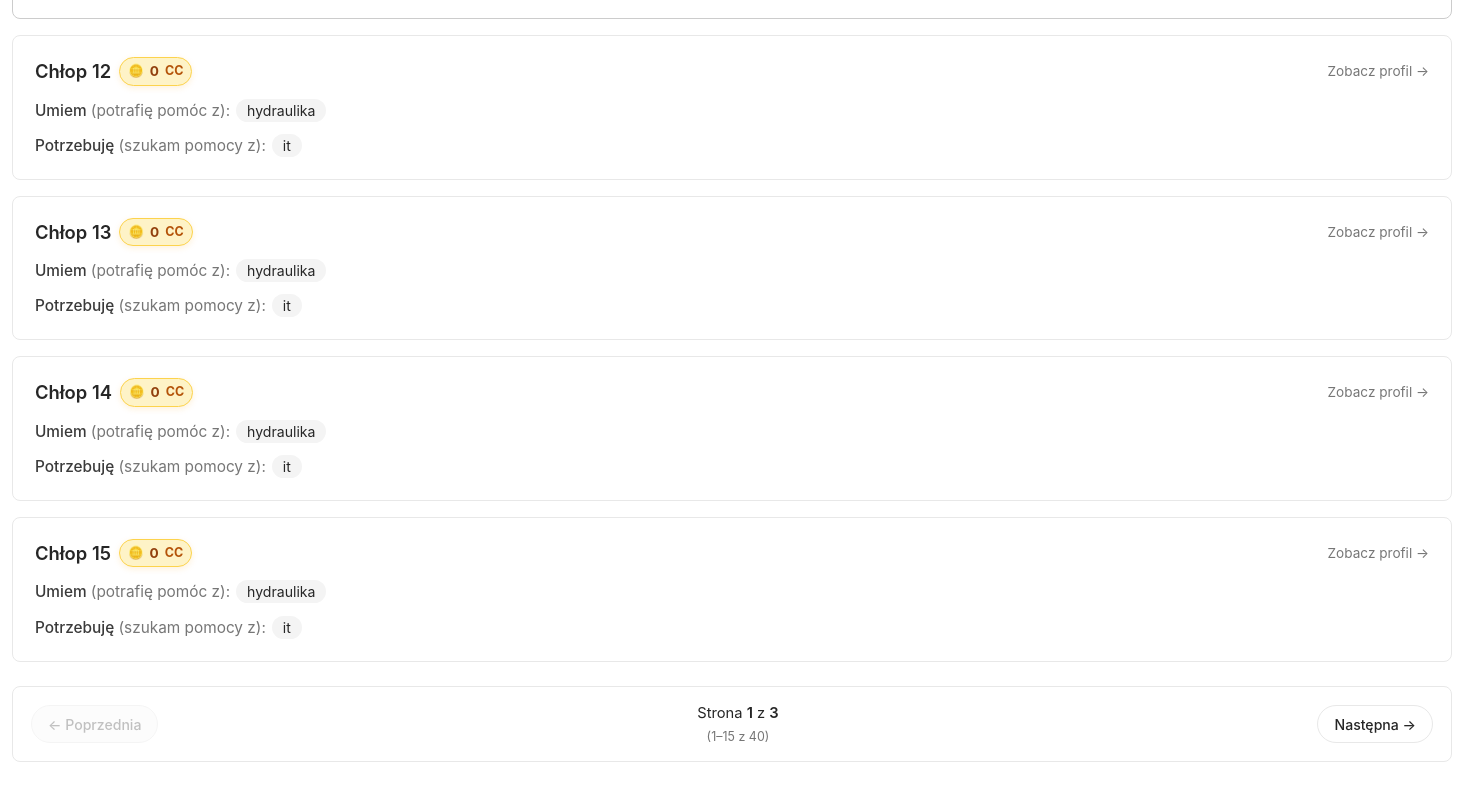
HomeView: stronicowanie › zmiana frazy wraca na pierwszą stronę
(page scrolled)
Click the button "Następna →". click: (1375, 724)
box: [1318,705,1433,743]
(page scrolled)
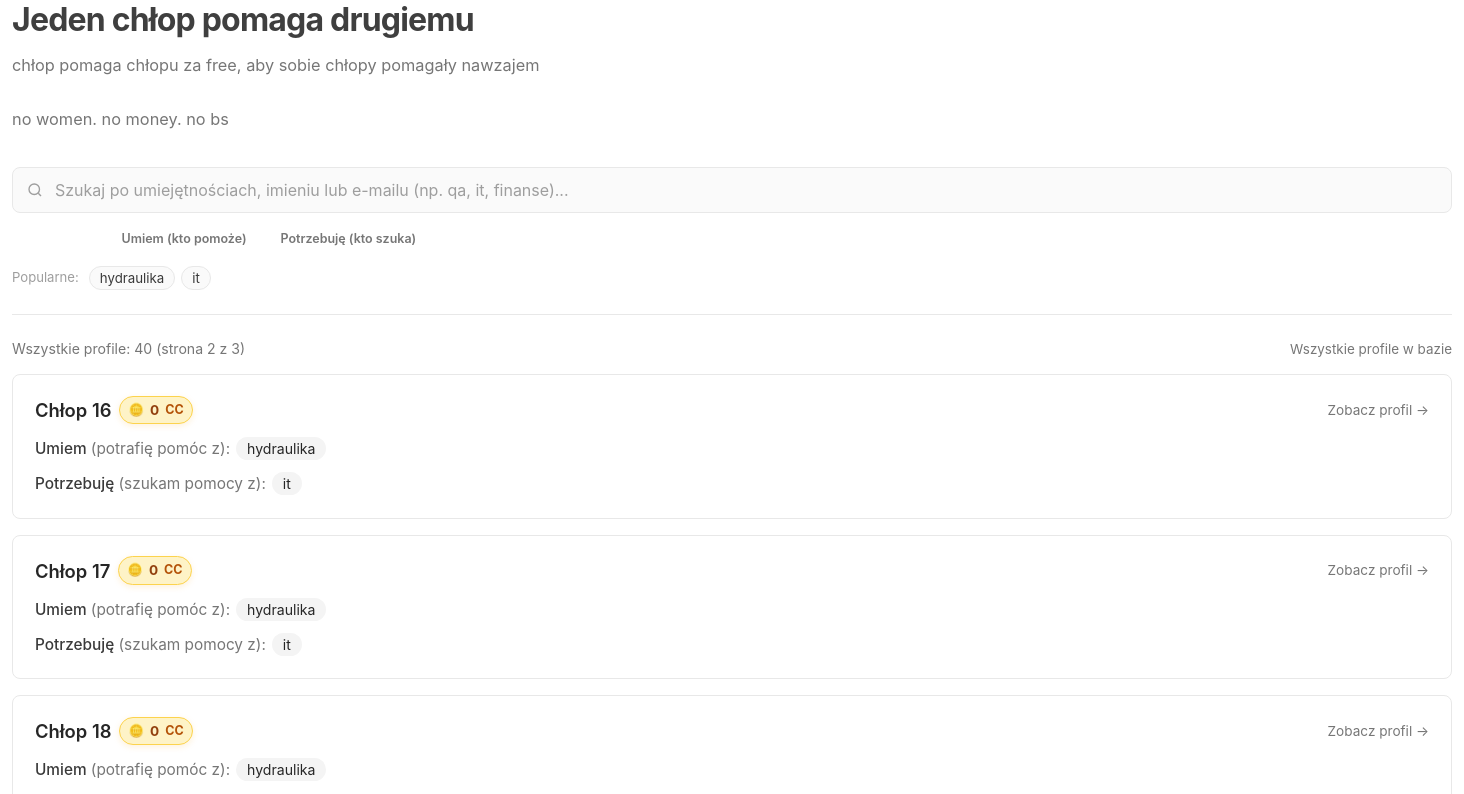
Replace the text in the search field with id "search-input" with "hydraulika". click: (732, 190)
box: [12,167,1452,213]
(page scrolled)
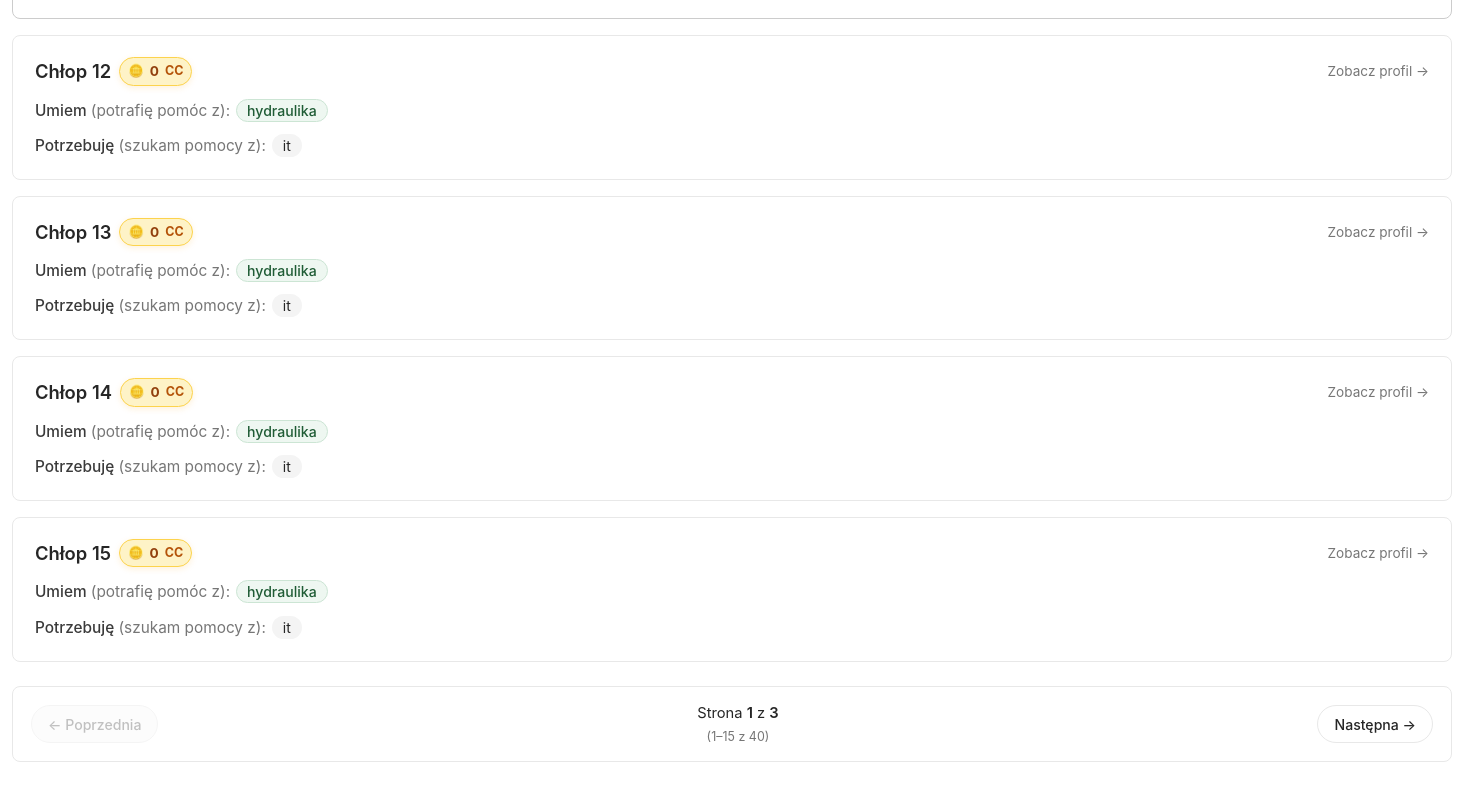
Expected: the element showing "Strona 1 z 3" is shown, [697,701,779,725]
